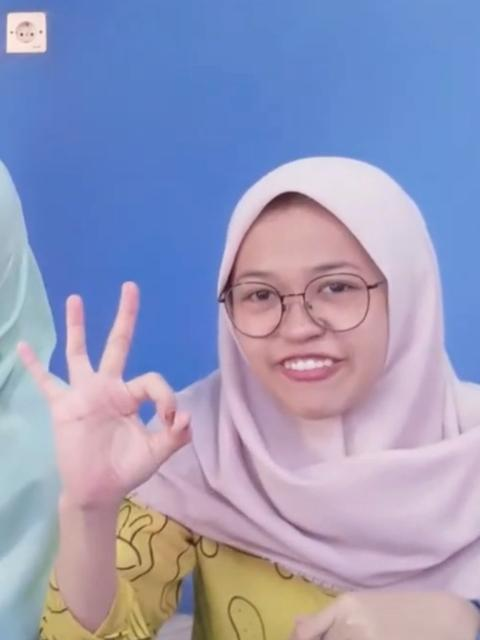F: (15, 275, 200, 513)
